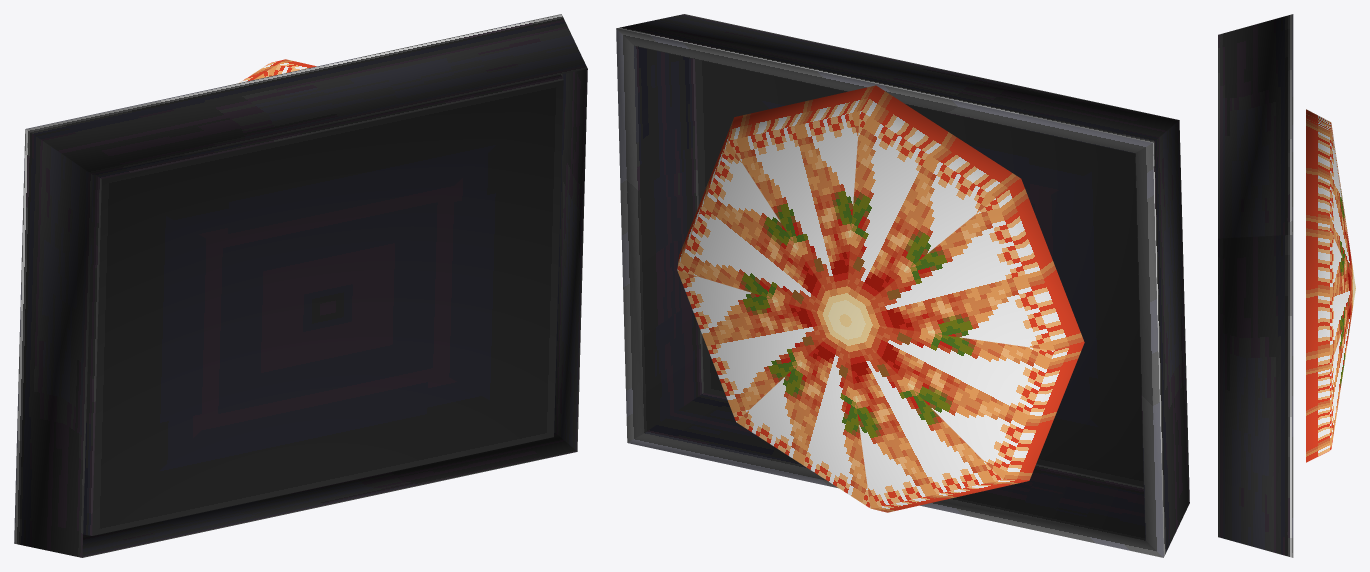
The picture shows the model from 3 angles, left to right: view 1: azimuth 30°, elevation 25°; view 2: azimuth 150°, elevation 25°; view 3: azimuth 270°, elevation 25°; orthographic projection. The views are drawn at different scales.
Visible parts, largest first — view 1: 2792item2792e; view 2: 2792item2792e; view 3: 2792item2792e.
Boxes of the visible parts, x1=… form: 2792item2792e: x1=14, y1=14, x2=587, y2=557; 2792item2792e: x1=616, y1=14, x2=1189, y2=557; 2792item2792e: x1=1218, y1=14, x2=1355, y2=557.
Size of the model in its own units: 0.838 by 0.6257 by 0.2297.
2 materials, 2 textured.
